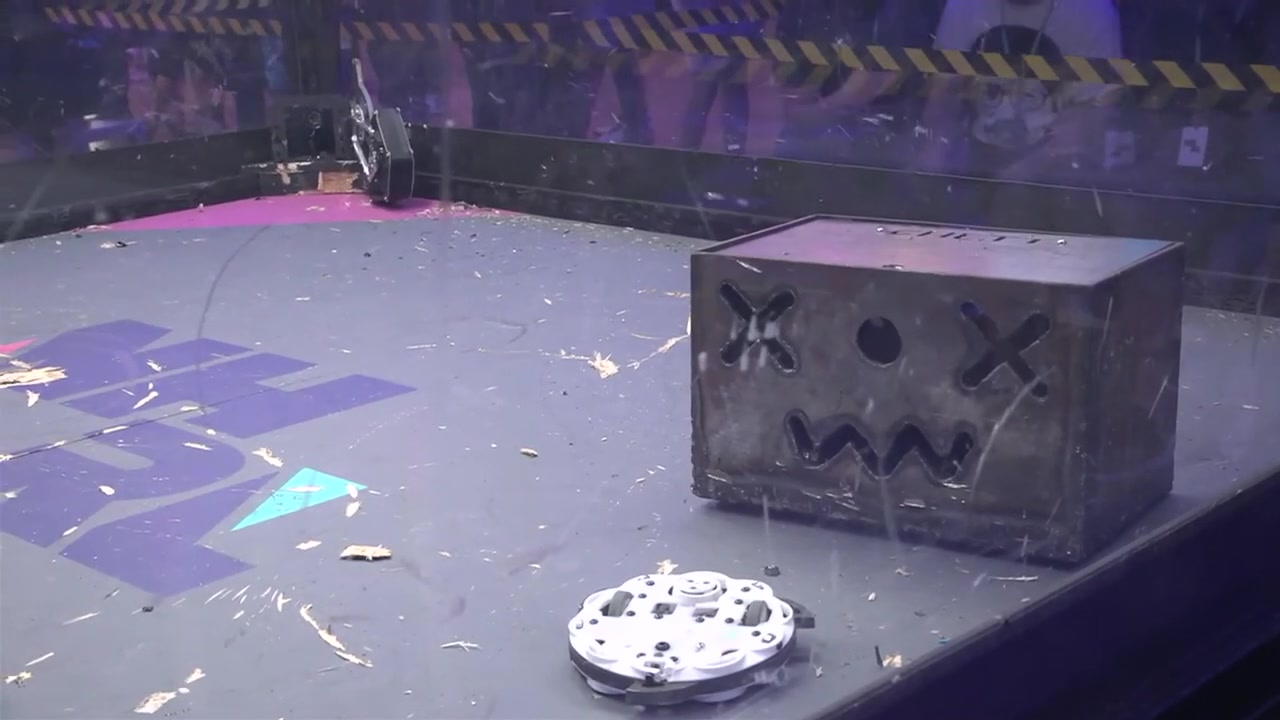combatbot: (564, 563, 815, 703), (347, 104, 418, 203)
housebot: (690, 214, 1179, 550)
